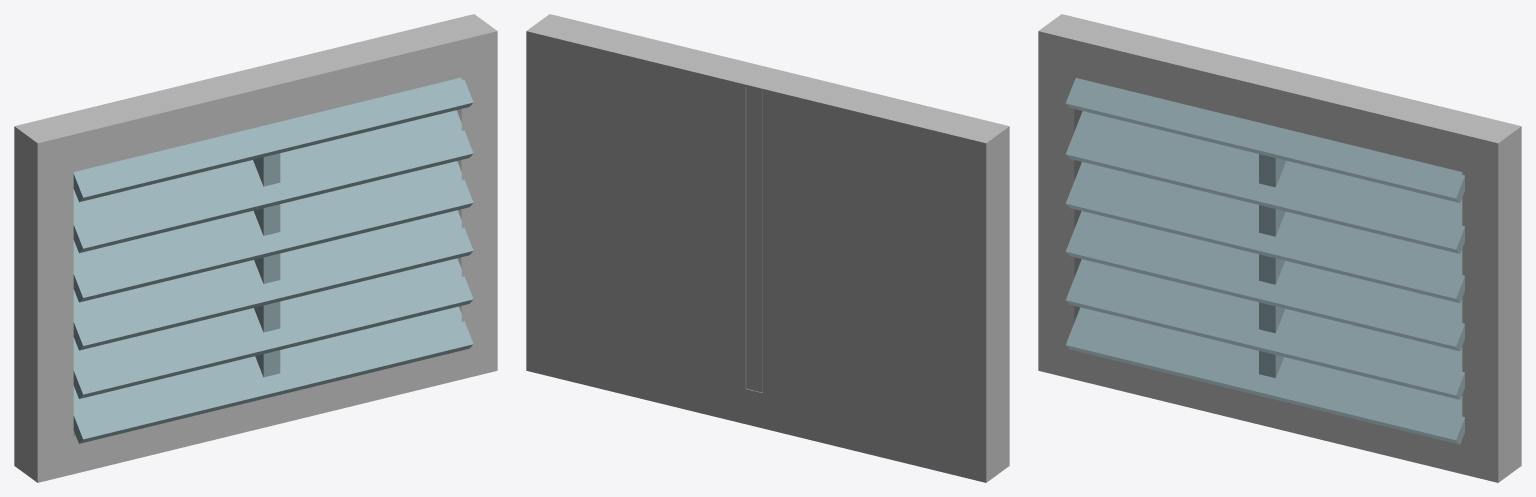
The model's file is ventilation.fbx.
3 renders of one model, left to right at view 1: azimuth 30°, elevation 25°; view 2: azimuth 150°, elevation 25°; view 3: azimuth 330°, elevation 25°, orthographic.
Visible parts, largest first — view 1: ventilation; view 2: ventilation; view 3: ventilation.
Boxes of the visible parts, bbox=[...] form: ventilation: bbox=[14, 14, 497, 482]; ventilation: bbox=[526, 14, 1009, 482]; ventilation: bbox=[1038, 14, 1521, 482].
Size of the model in its own units: 63.26 by 44.63 by 7.87.
